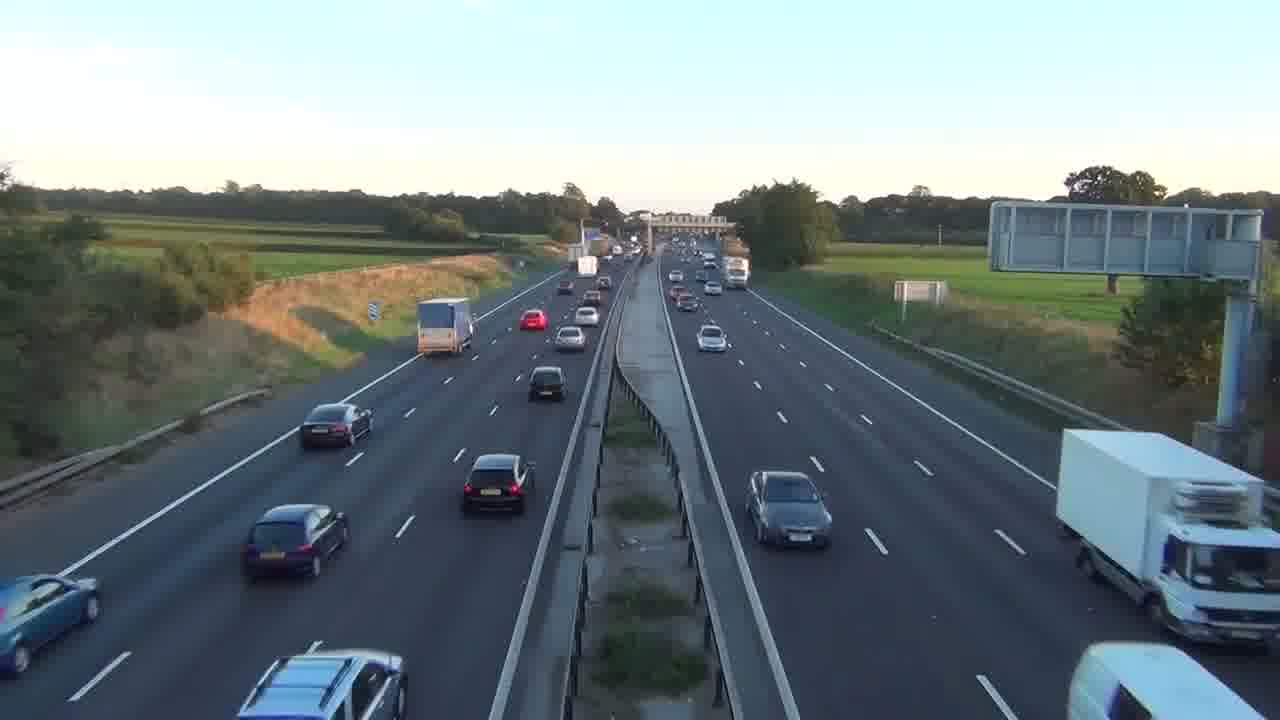car: (235, 642, 409, 719), (0, 572, 102, 678), (240, 502, 351, 579), (745, 468, 833, 550), (461, 452, 535, 515), (301, 401, 369, 449), (528, 365, 567, 401), (696, 323, 729, 353), (552, 325, 587, 353), (518, 309, 548, 332), (575, 305, 599, 327)
truck: (1053, 428, 1279, 652), (1066, 640, 1266, 719), (416, 296, 475, 357)
